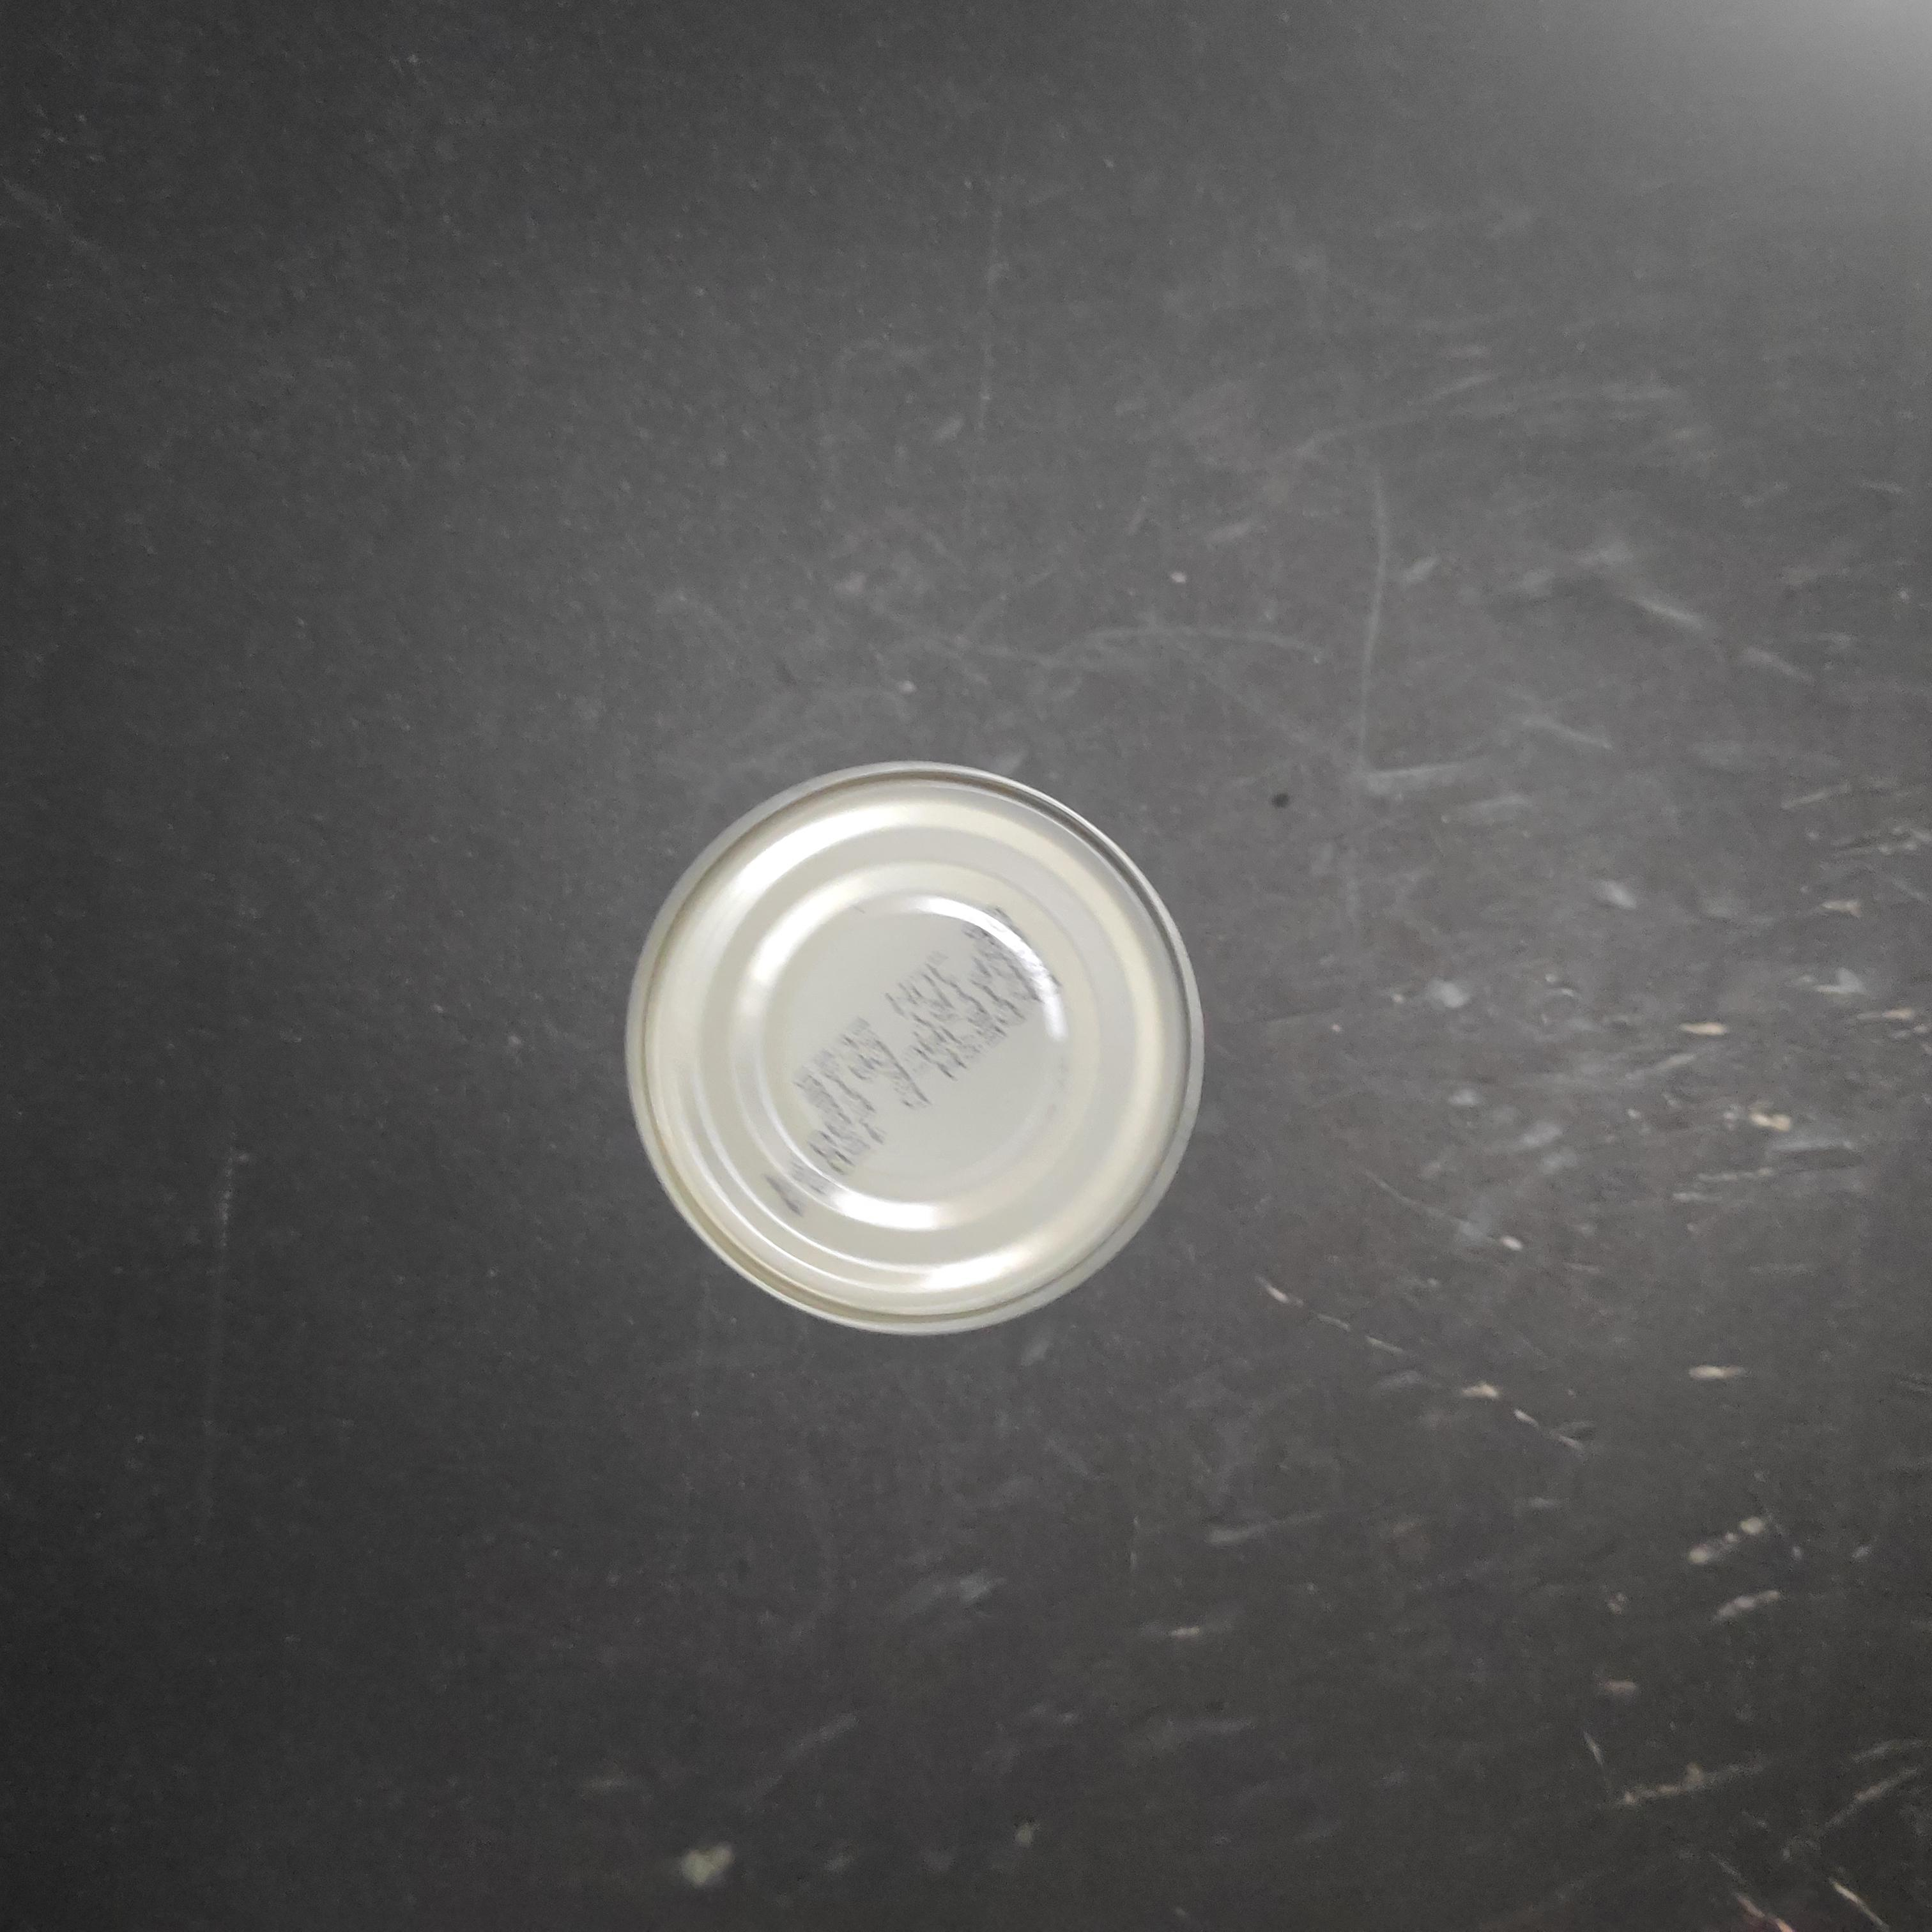No defect: (725, 594, 1309, 1171)
